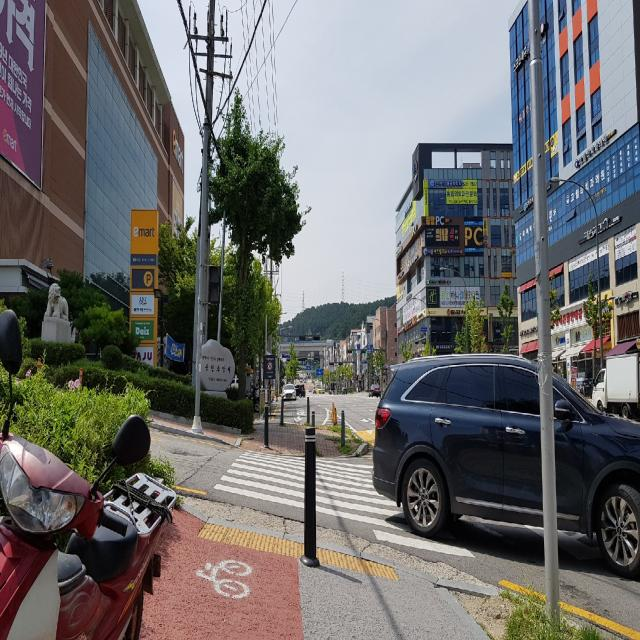횡단보도: (212, 447, 478, 561)
